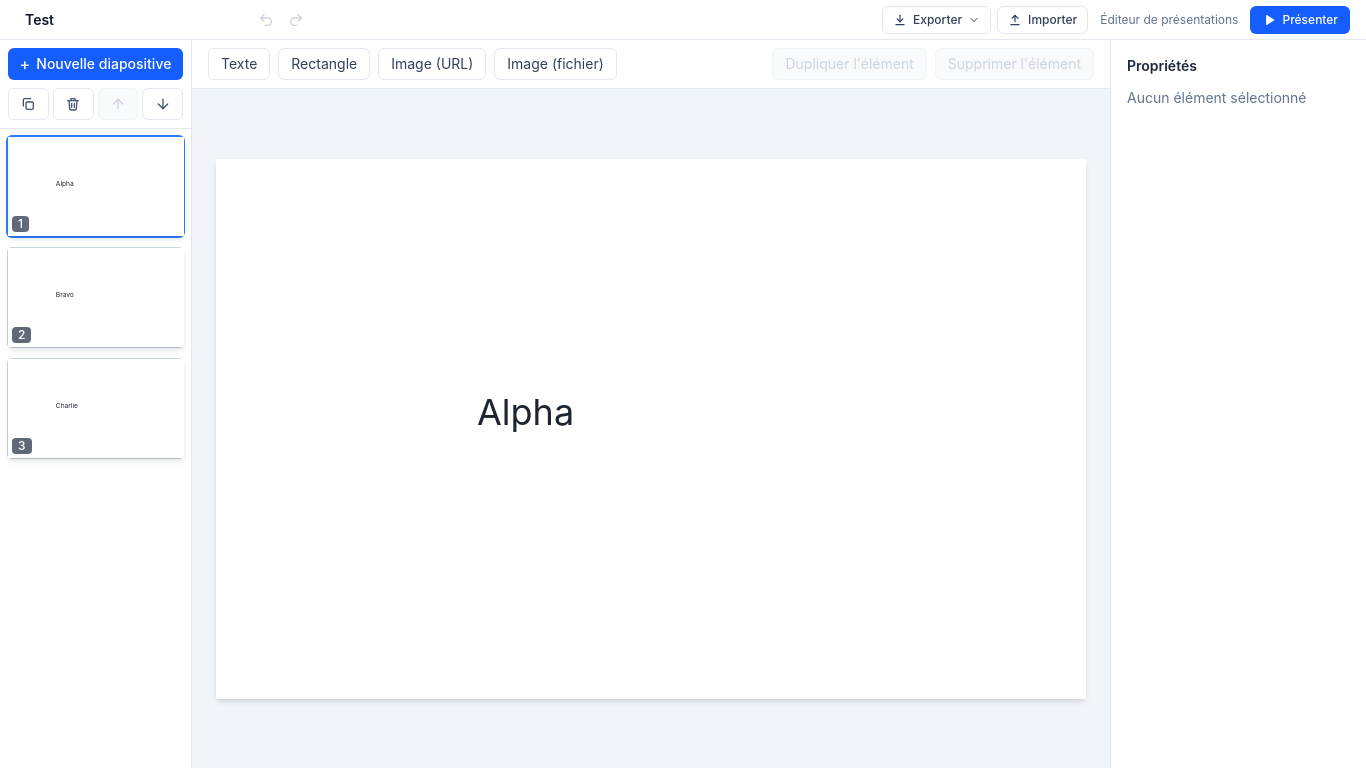
EditorLayout : réordonner les vignettes en glissant › glisser puis annuler par Échap laisse l'ordre
Press the mouse on the button "Charlie 3" at (96, 408), box x1=8 y1=359 x2=183 y2=458
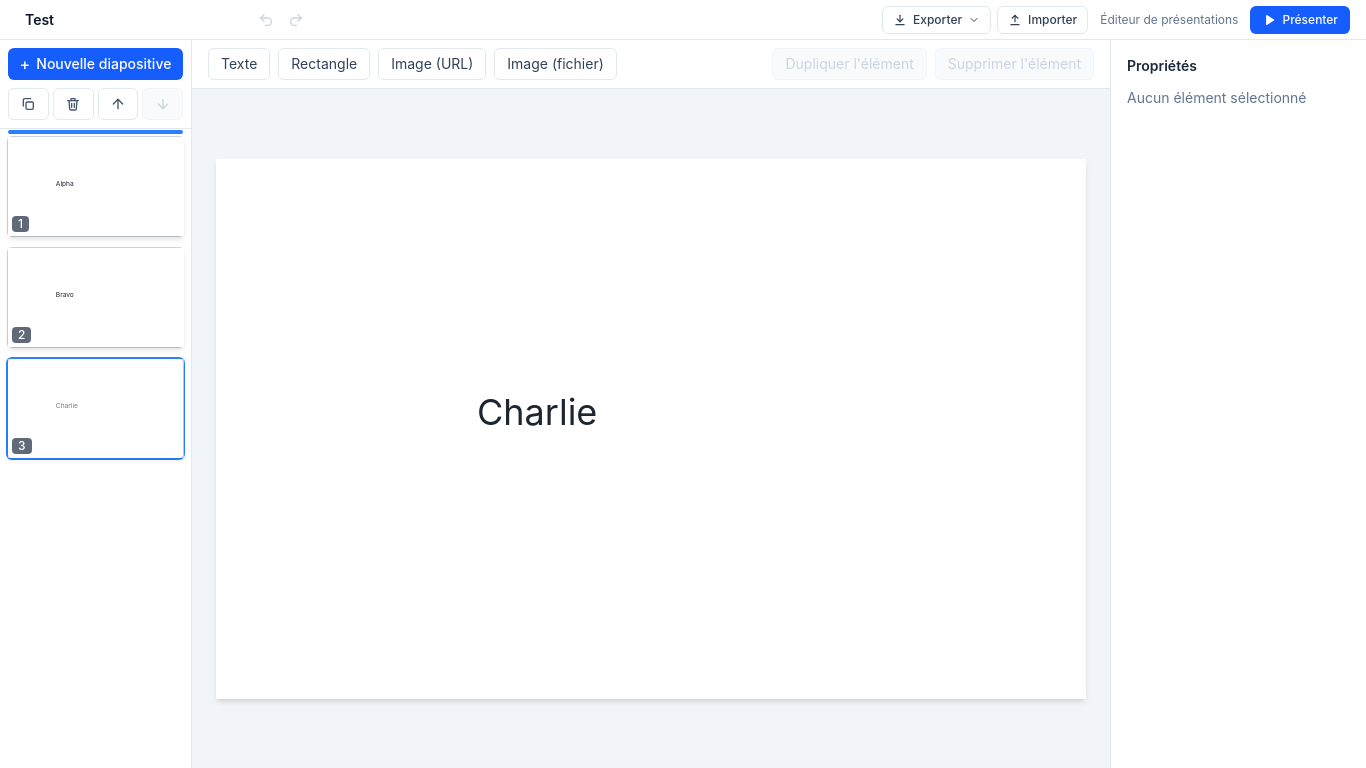
Press Escape
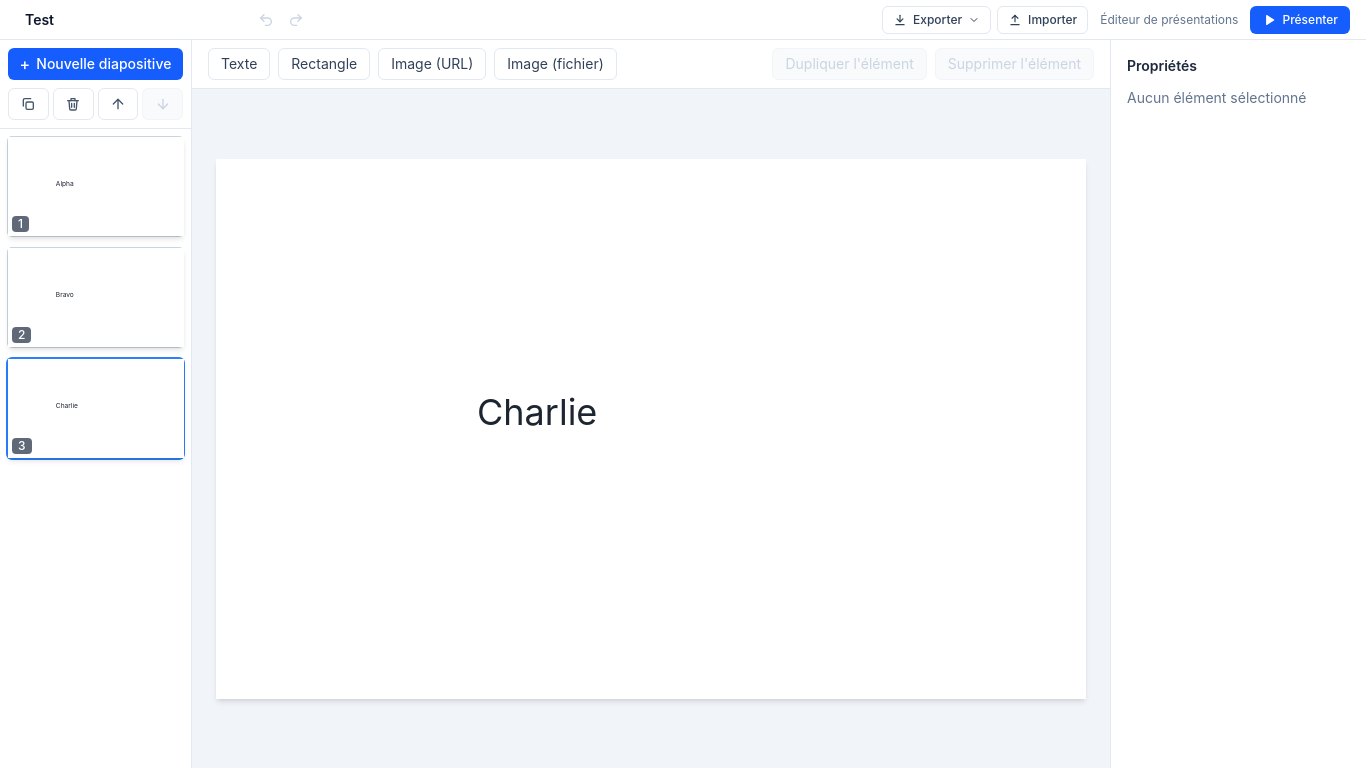
Result: the element with test id "drop-indicator" is gone
